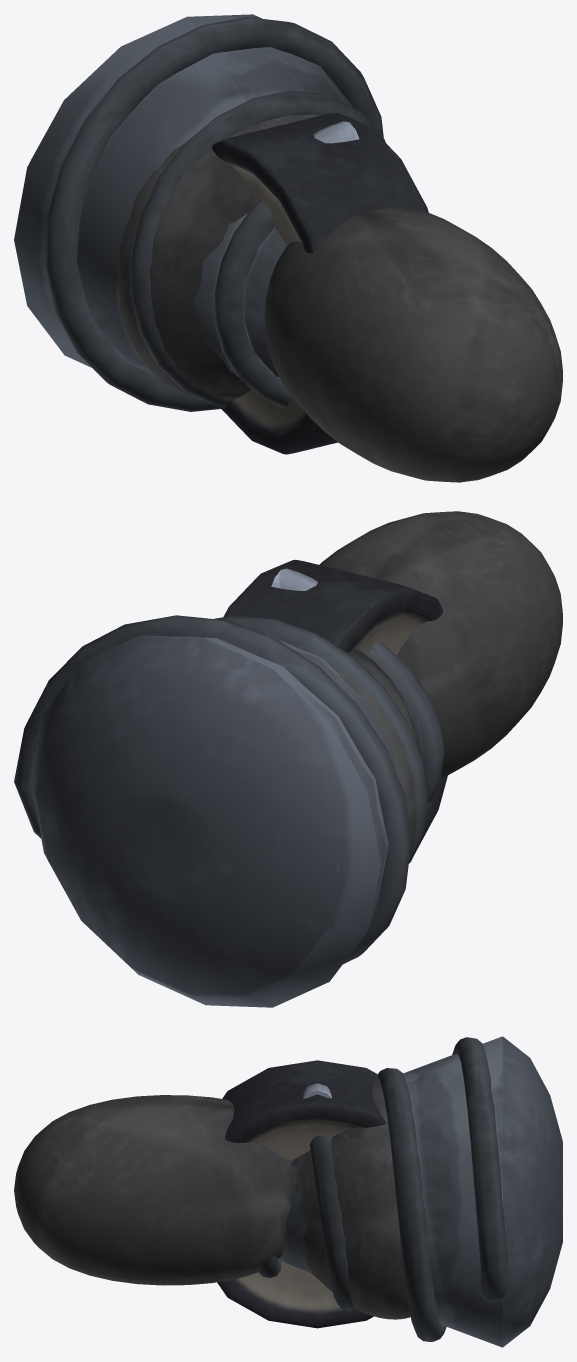
The model's file is drill_items.fbx.
3 views of the same model, one above another, from view 1: azimuth 30°, elevation 25°; view 2: azimuth 150°, elevation 25°; view 3: azimuth 270°, elevation 25° (orthographic). The views are drawn at different scales.
Parts seen in each view (by area): view 1: drill_booster_object, drill_tip_object, drill_wheel_01_object, drill_pipe_object; view 2: drill_tip_object, drill_booster_object, drill_wheel_01_object, drill_pipe_object; view 3: drill_booster_object, drill_tip_object, drill_wheel_01_object.
Boxes of the visible parts, x1,y1,x2,y2 form: drill_booster_object: [116, 114, 562, 482]; drill_tip_object: [14, 14, 385, 411]; drill_wheel_01_object: [212, 112, 428, 454]; drill_pipe_object: [313, 121, 358, 143]; drill_tip_object: [14, 615, 444, 1007]; drill_booster_object: [319, 511, 562, 853]; drill_wheel_01_object: [223, 559, 447, 854]; drill_pipe_object: [271, 568, 317, 590]; drill_booster_object: [14, 1078, 410, 1319]; drill_tip_object: [258, 1036, 562, 1347]; drill_wheel_01_object: [217, 1060, 385, 1328].
Bounding box in the file's own units: 242 × 232 × 404.
Materials: 1 (1 with a texture image).
